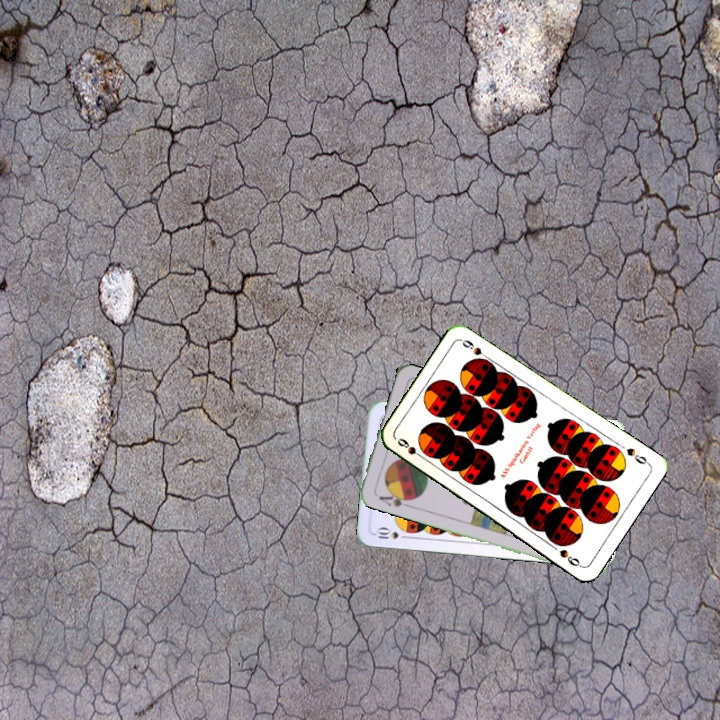S10: (373, 525, 412, 541)
S9: (393, 434, 429, 463), (622, 443, 652, 467)
SA: (375, 487, 414, 510)
